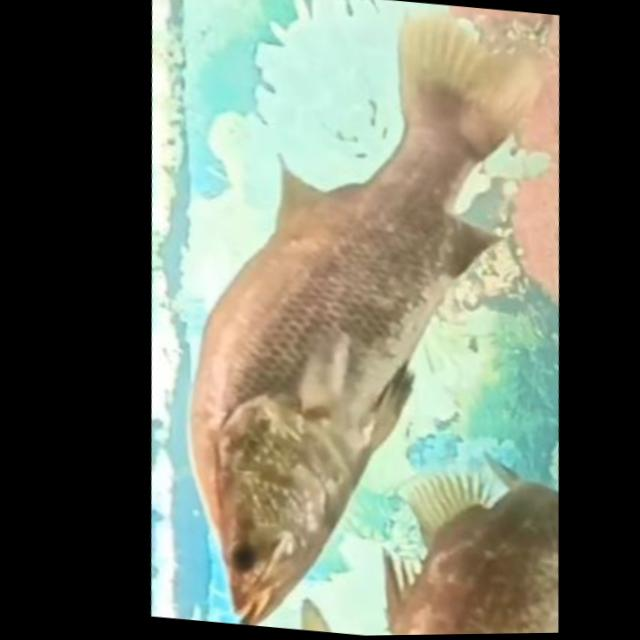Seabass: (121, 0, 606, 638)
